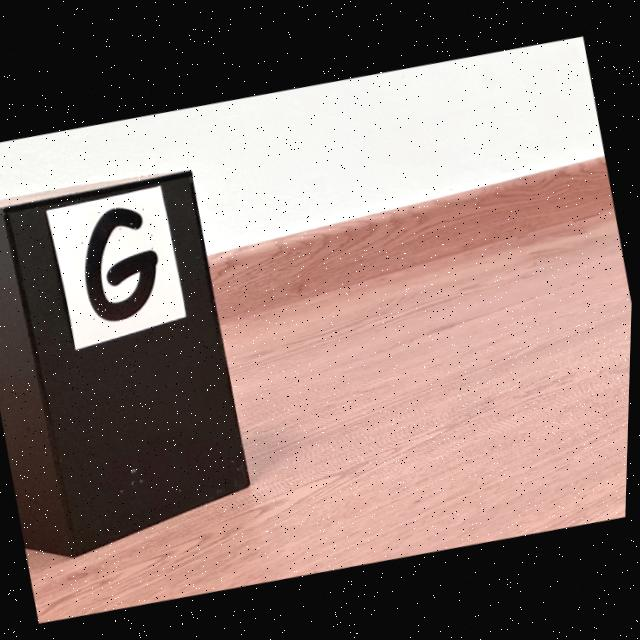G: (86, 206, 159, 320)
